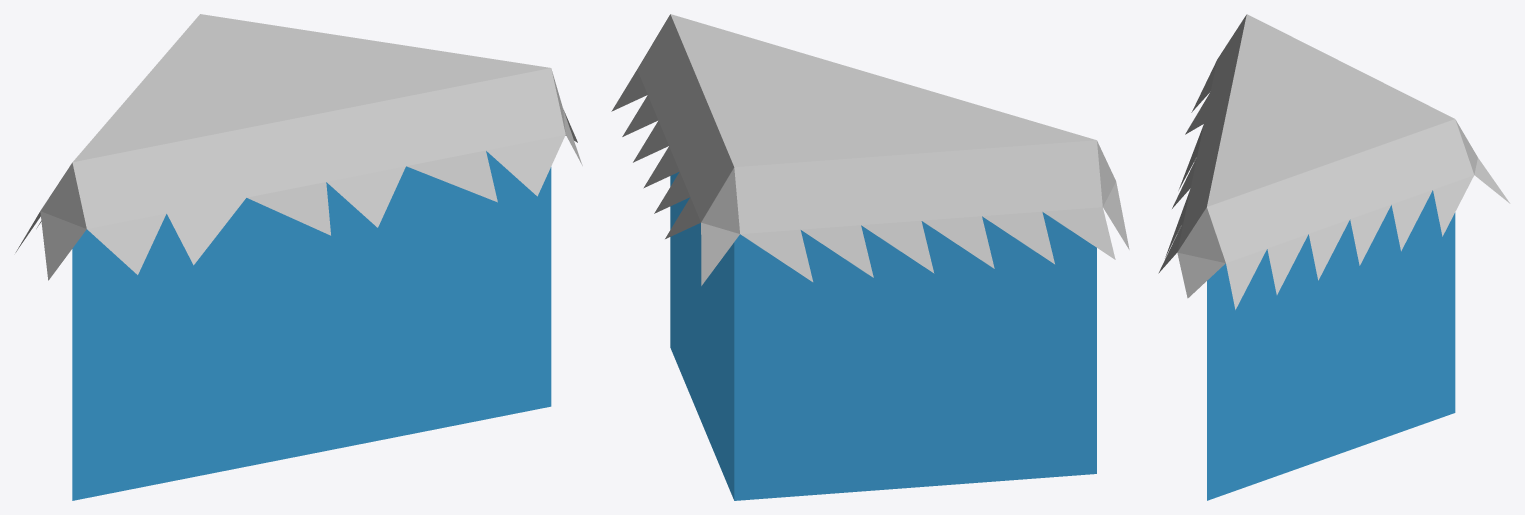
The model's file is Tile_Tri_Ice.fbx.
The picture shows the model from 3 angles, left to right: view 1: azimuth 30°, elevation 25°; view 2: azimuth 150°, elevation 25°; view 3: azimuth 270°, elevation 25°; orthographic projection. The views are drawn at different scales.
Visible parts, largest first — view 1: blockCornerLarge; view 2: blockCornerLarge; view 3: blockCornerLarge.
Boxes of the visible parts, bbox=[...] form: blockCornerLarge: bbox=[15, 14, 582, 500]; blockCornerLarge: bbox=[611, 14, 1129, 500]; blockCornerLarge: bbox=[1158, 14, 1510, 500].
Bounding box in the file's own units: 65.46 × 42.84 × 39.37.
